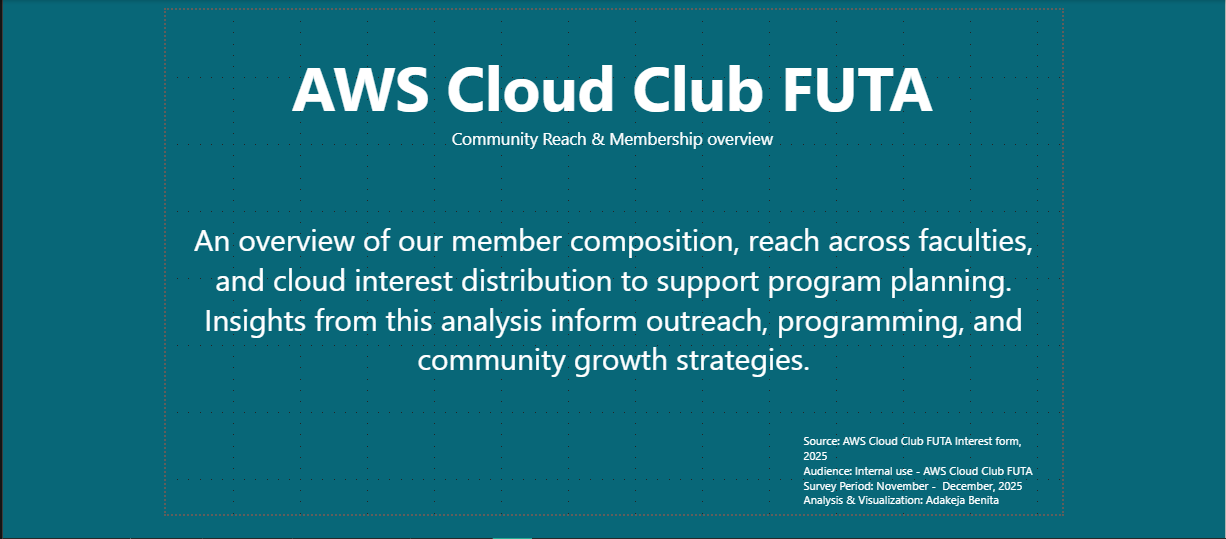

What the dashboard file says about the page in this screenshot:
{"tool":"powerbi","page":{"name":"Cover","canvas":[1280,720],"ordinal":0},"visuals":[{"type":"textbox","box":[9.7,44.5,1255,164.2],"z":0},{"type":"textbox","box":[10,292.9,1254.3,247.1],"z":1000},{"type":"textbox","box":[790,598.6,474.3,108.6],"z":2000}]}

Visuals, with their boxes on the page's 1280x720 design canvas (x1, y1, x2, y2). These are canvas units, not pixel positions in the 1226x539 screenshot, which may show the page scaled, cropped or inside an application window:
textbox: 10 44 1265 209
textbox: 10 293 1264 540
textbox: 790 599 1264 707
